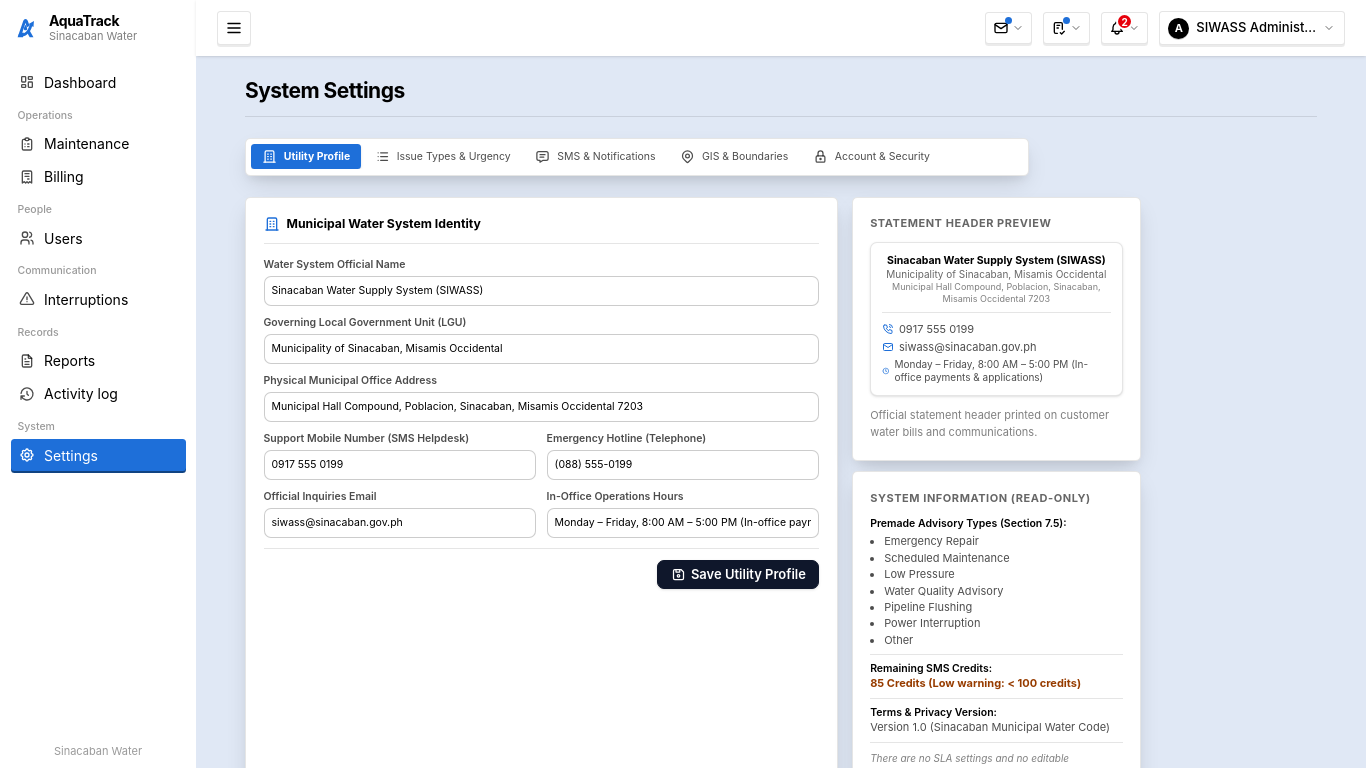
Scenario: AdminSettingsView (Workflow Parameters & System Configuration) › switches to GIS & Boundaries tab and displays Sinacaban municipal coordinates
Click the button "GIS & Boundaries". click: {"x": 734, "y": 157}
box: [670,144,799,169]
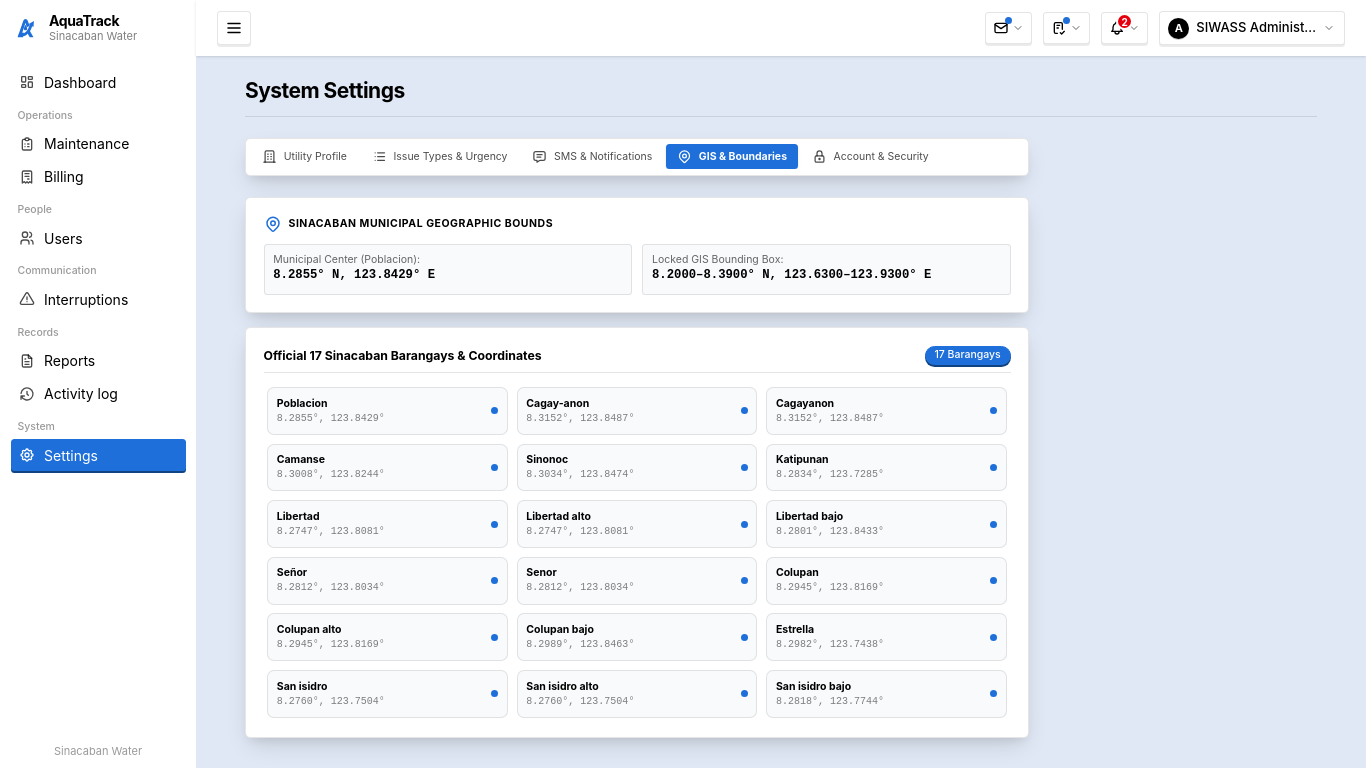
Result: the heading "Sinacaban Municipal Geographic Bounds" is shown at [288,217,553,231]
Result: the heading "Official 17 Sinacaban Barangays & Coordinates" is shown at [264,346,542,364]
Result: the text "8.2855° N, 123.8429° E" is shown at [273,268,435,282]
